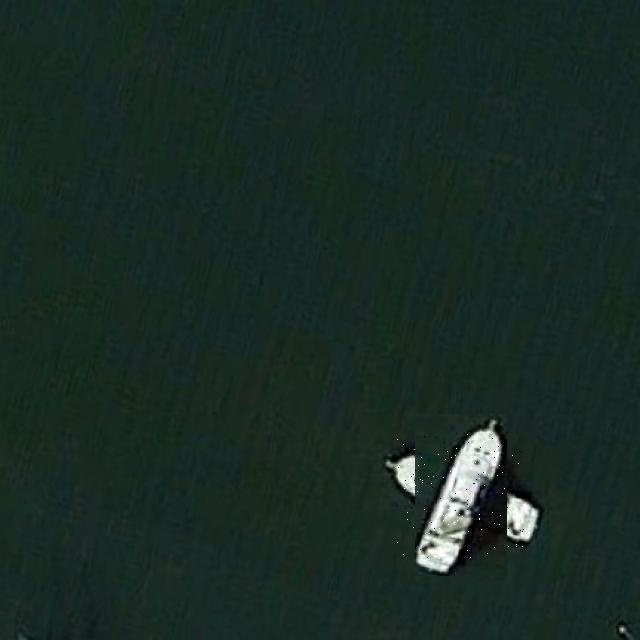boat: (397, 432, 525, 559)
